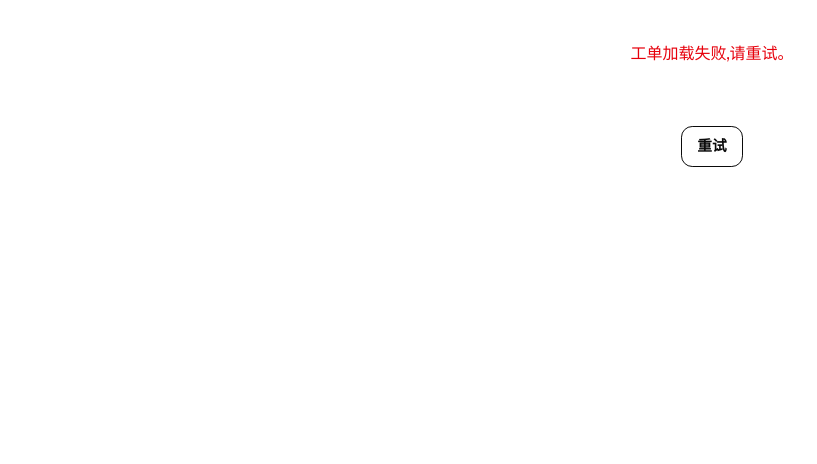
TicketThread › shows a retryable error state on a 500 (not 'not found')
This screenshot has width=817, height=464.
Check: the text "工单加载失败,请重试。" is shown, box left=630, top=41, right=794, bottom=66
# Retry recovers the thread.
Click the button "重试": (712, 147) left=681, top=126, right=743, bottom=167
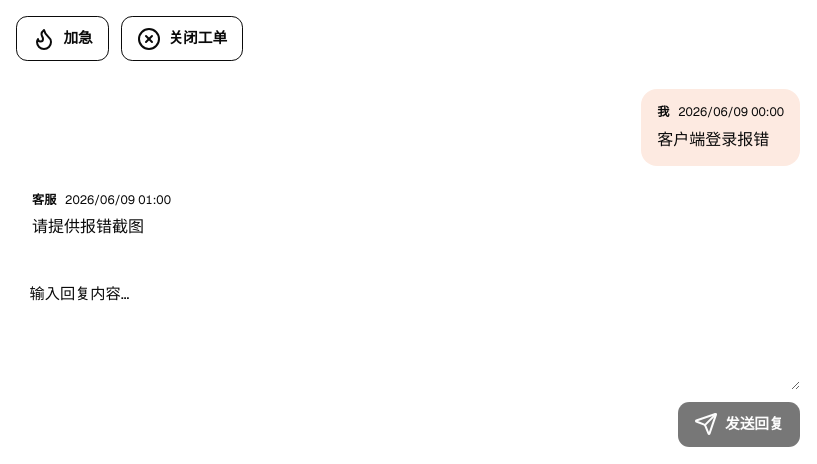
Check: the text "客户端登录报错" is shown, box left=657, top=127, right=784, bottom=152
